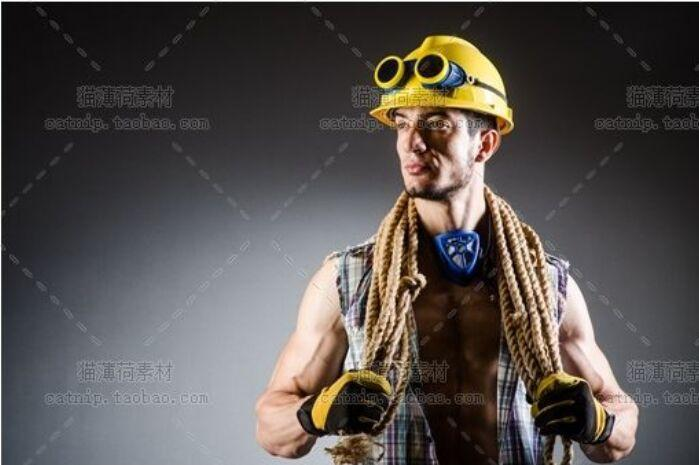helmet: (369, 35, 518, 133)
